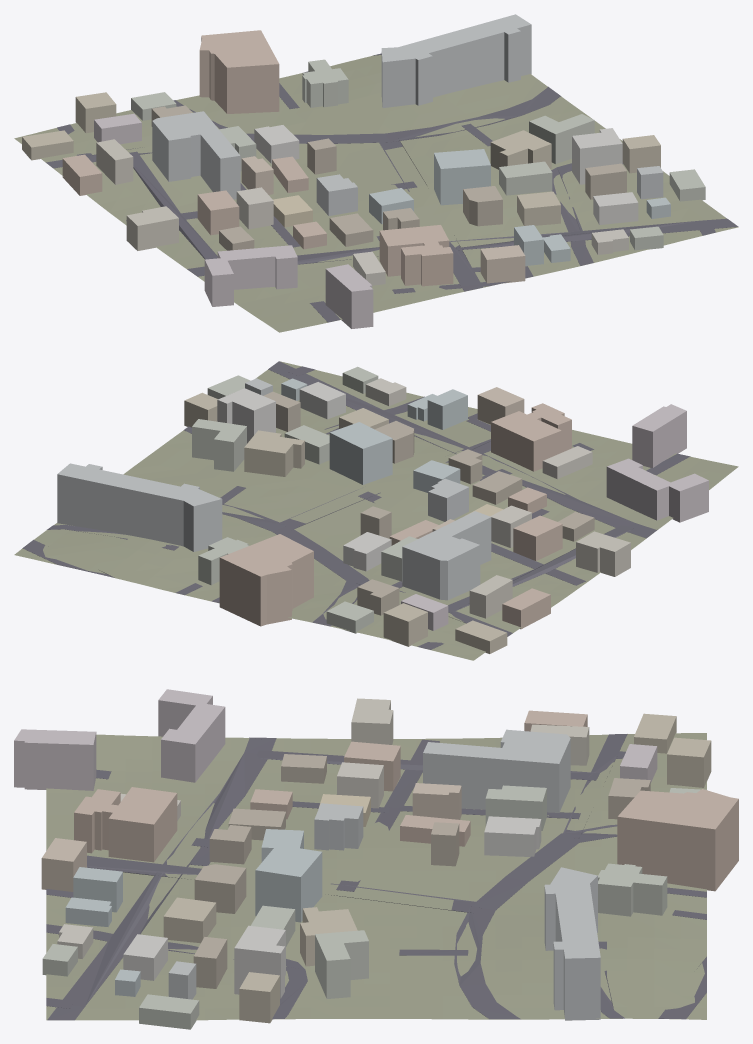
File: chunk_3_2.glb
The picture shows the model from 3 angles, top to bottom: view 1: azimuth 30°, elevation 25°; view 2: azimuth 150°, elevation 25°; view 3: azimuth 270°, elevation 25°; orthographic projection. The views are drawn at different scales.
Parts seen in each view (by area): view 1: geometry_48, geometry_1, geometry_38, geometry_3, geometry_9, geometry_2, geometry_4, geometry_8, geometry_69, geometry_26, geometry_45, geometry_0 (+41 smaller); view 2: geometry_48, geometry_1, geometry_38, geometry_3, geometry_9, geometry_2, geometry_4, geometry_69, geometry_8, geometry_41, geometry_31, geometry_45 (+38 smaller); view 3: geometry_48, geometry_38, geometry_3, geometry_1, geometry_2, geometry_69, geometry_9, geometry_8, geometry_4, geometry_0, geometry_41, geometry_58 (+44 smaller).
Part boxes in pixels (box(x1,y1,x2,y2)): geometry_48: box(14, 55, 738, 332); geometry_1: box(381, 14, 531, 107); geometry_38: box(199, 30, 279, 113); geometry_3: box(152, 111, 240, 199); geometry_9: box(204, 245, 297, 306); geometry_2: box(379, 225, 453, 286); geometry_4: box(434, 149, 490, 205); geometry_8: box(325, 264, 373, 328); geometry_69: box(187, 218, 738, 276); geometry_26: box(126, 206, 178, 250); geometry_45: box(572, 128, 622, 184); geometry_0: box(302, 59, 348, 107); geometry_48: box(14, 361, 738, 660); geometry_1: box(57, 463, 222, 551); geometry_38: box(219, 534, 313, 626); geometry_3: box(402, 511, 491, 600); geometry_9: box(606, 458, 708, 522); geometry_2: box(491, 403, 571, 471); geometry_4: box(329, 422, 392, 484); geometry_69: box(268, 361, 656, 538); geometry_8: box(632, 404, 686, 467); geometry_41: box(192, 419, 246, 471); geometry_31: box(244, 430, 304, 476); geometry_45: box(217, 388, 275, 443); geometry_48: box(46, 733, 706, 1020); geometry_38: box(617, 789, 738, 891); geometry_3: box(423, 729, 570, 812); geometry_1: box(544, 867, 600, 1020); geometry_2: box(74, 787, 177, 862); geometry_69: box(47, 737, 276, 1020); geometry_9: box(158, 689, 225, 782); geometry_8: box(14, 729, 96, 790); geometry_4: box(255, 845, 322, 922); geometry_0: box(598, 863, 667, 916); geometry_41: box(315, 930, 368, 998); geometry_58: box(472, 824, 617, 910).
Bounding box in the file's own units: 268 × 27.18 × 274.
